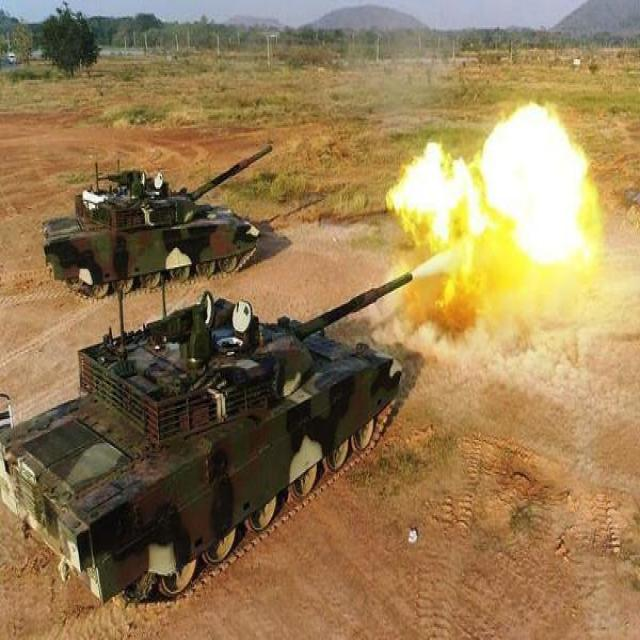Tanks: (10, 298, 415, 580), (54, 169, 260, 284)
